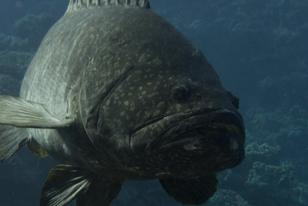Serranidae -Groupers-: (0, 0, 250, 206)
